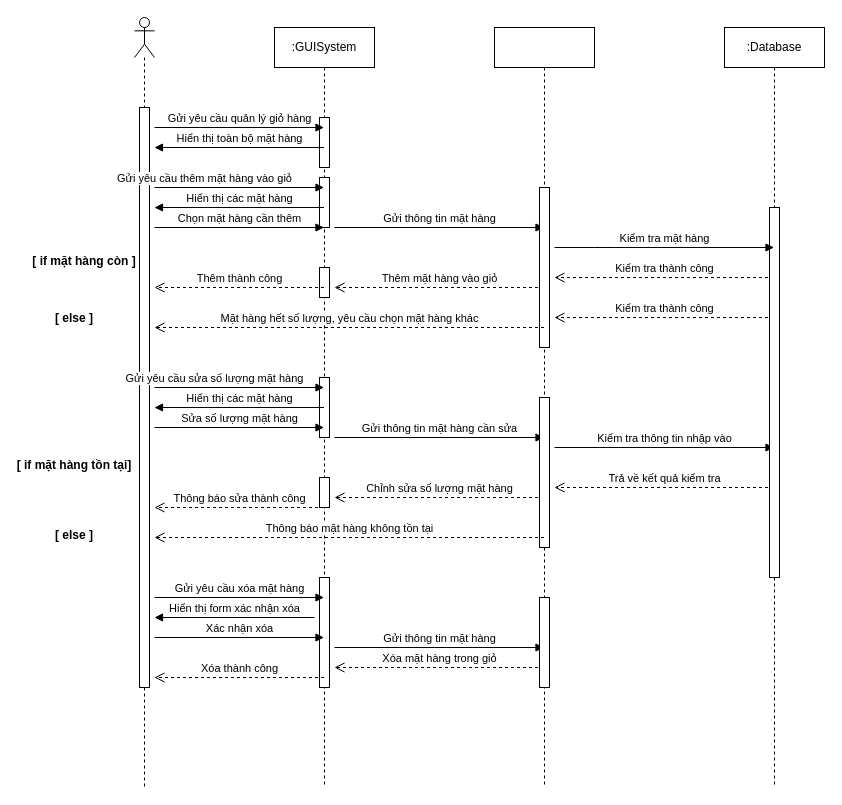
This 842x805 diagram has some shape labels left out. The centre of each missing label's shape, as x and y in pixels:
:ShopCart: point (544, 407)
Khách hàng: point (144, 402)
